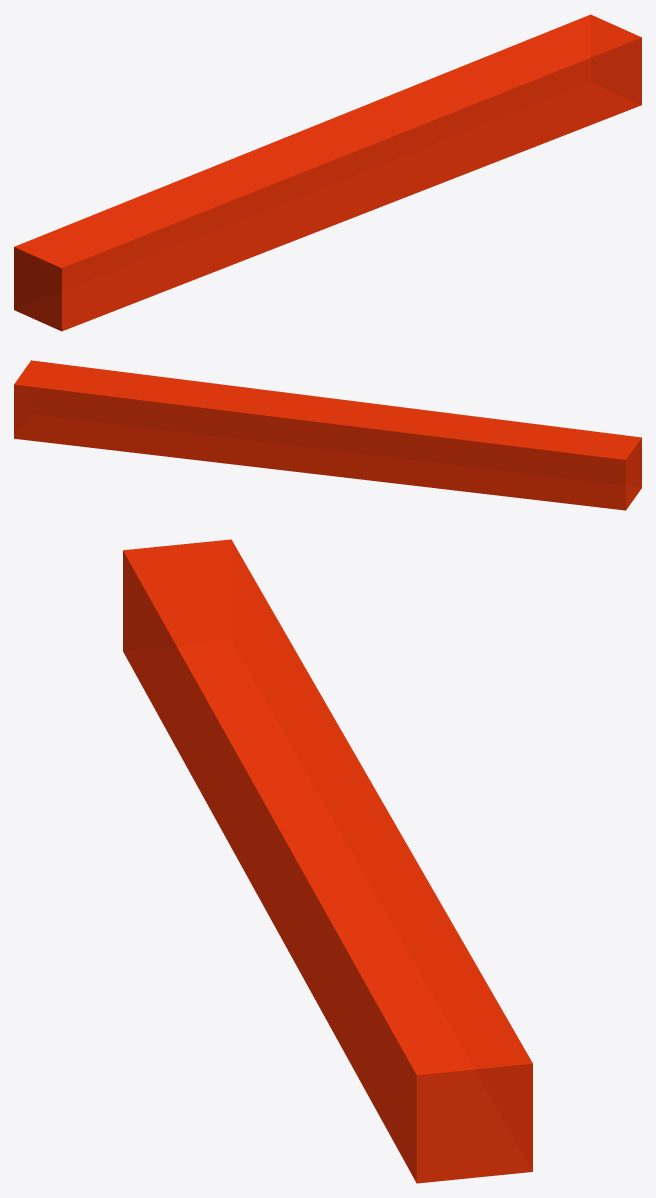
The model's file is Event_421115418_EErechit_92.fbx.
3 renders of one model, top to bottom at view 1: azimuth 30°, elevation 25°; view 2: azimuth 150°, elevation 25°; view 3: azimuth 270°, elevation 25°, orthographic. The views are drawn at different scales.
Parts seen in each view (by area): view 1: Model; view 2: Model; view 3: Model.
Part boxes in pixels (x1,y1,x2,y2): Model: [14, 14, 641, 331]; Model: [14, 360, 641, 510]; Model: [123, 539, 532, 1183].
Size of the model in its own units: 0.8243 by 0.0781 by 0.2668.
